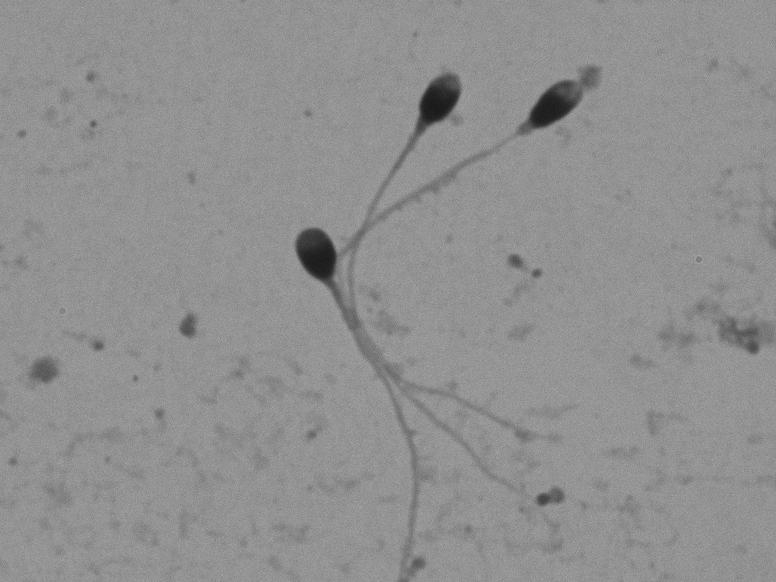Abnormal: (331, 54, 599, 261)
Normal: (333, 55, 570, 519), (274, 209, 435, 568)
